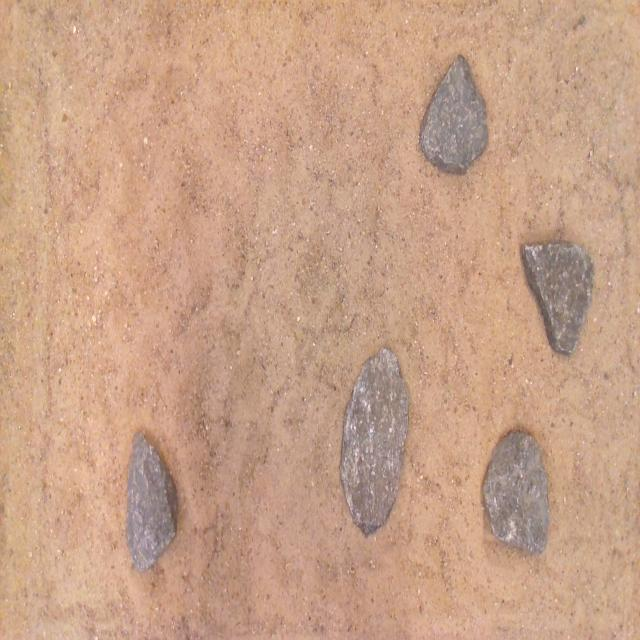rock: (340, 348, 408, 535), (521, 242, 593, 354), (420, 56, 488, 174), (484, 431, 549, 553), (126, 433, 177, 571)
